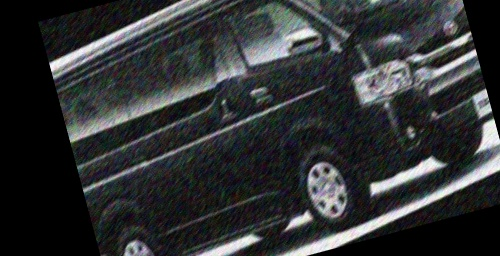van: (38, 0, 500, 256)
